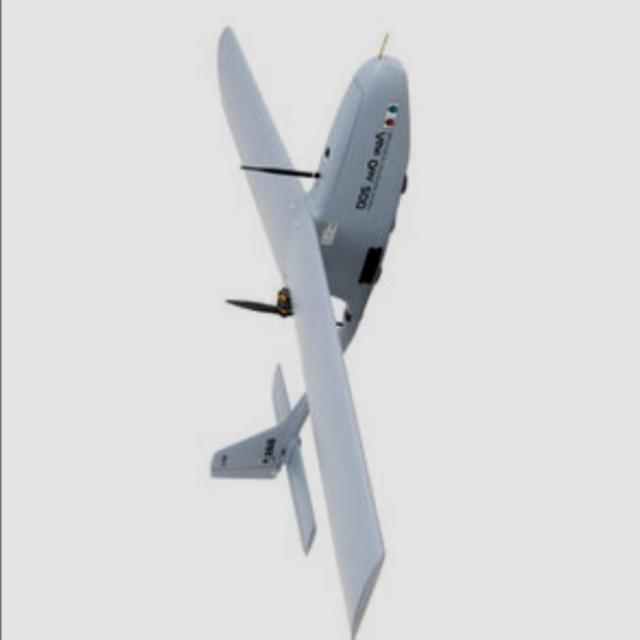plane: (206, 27, 411, 640)
